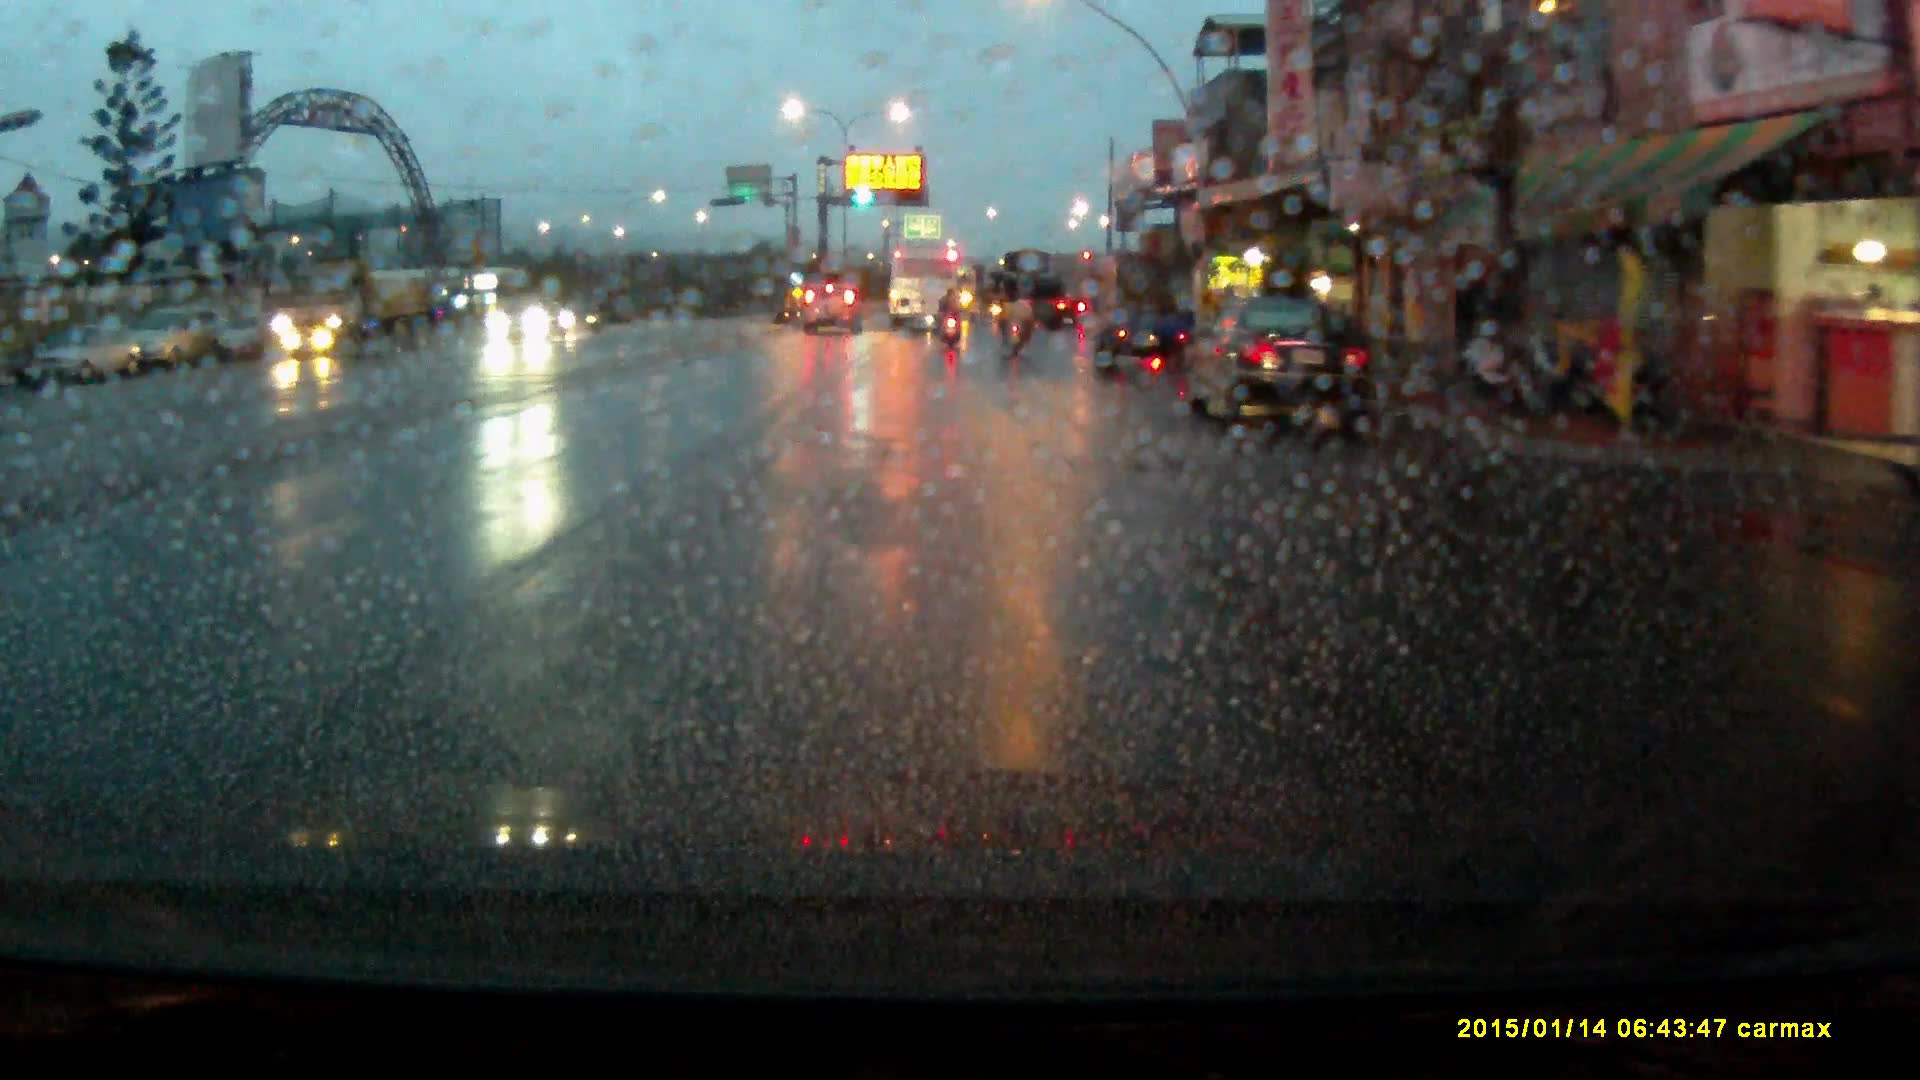rider: (994, 276, 1030, 359), (939, 282, 966, 349)
vehicle: (1182, 301, 1385, 431), (267, 261, 439, 356), (1087, 255, 1198, 368), (120, 305, 218, 371), (889, 248, 956, 336), (1003, 250, 1072, 336), (50, 323, 143, 387), (802, 277, 864, 337), (487, 301, 564, 343), (562, 301, 606, 333)
